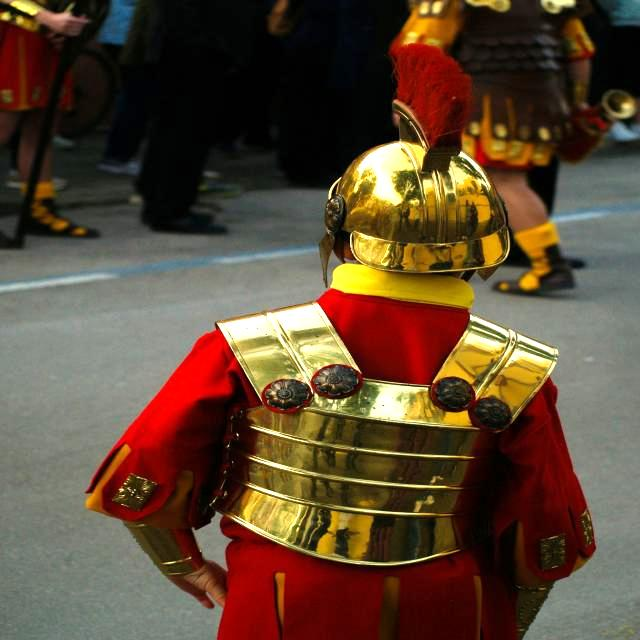no_hard_hat: (320, 44, 511, 286)
person: (140, 48, 595, 640), (454, 0, 598, 288), (144, 0, 267, 219), (26, 186, 100, 242), (3, 57, 19, 238)
